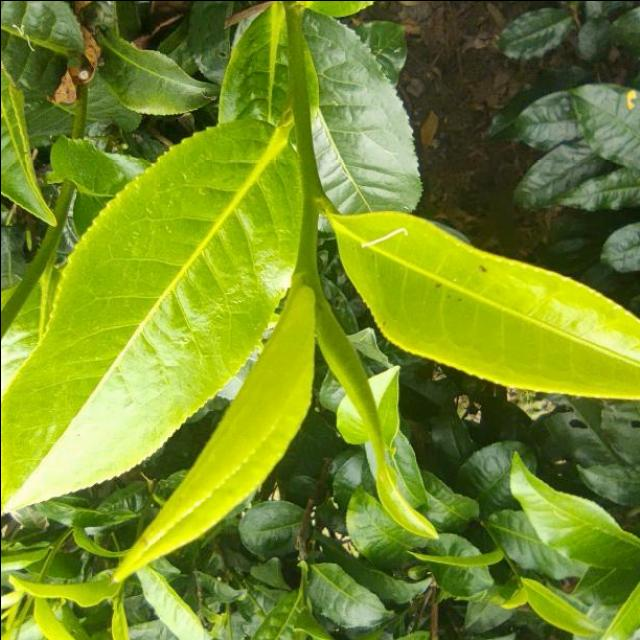Stem: (294, 258, 317, 279)
